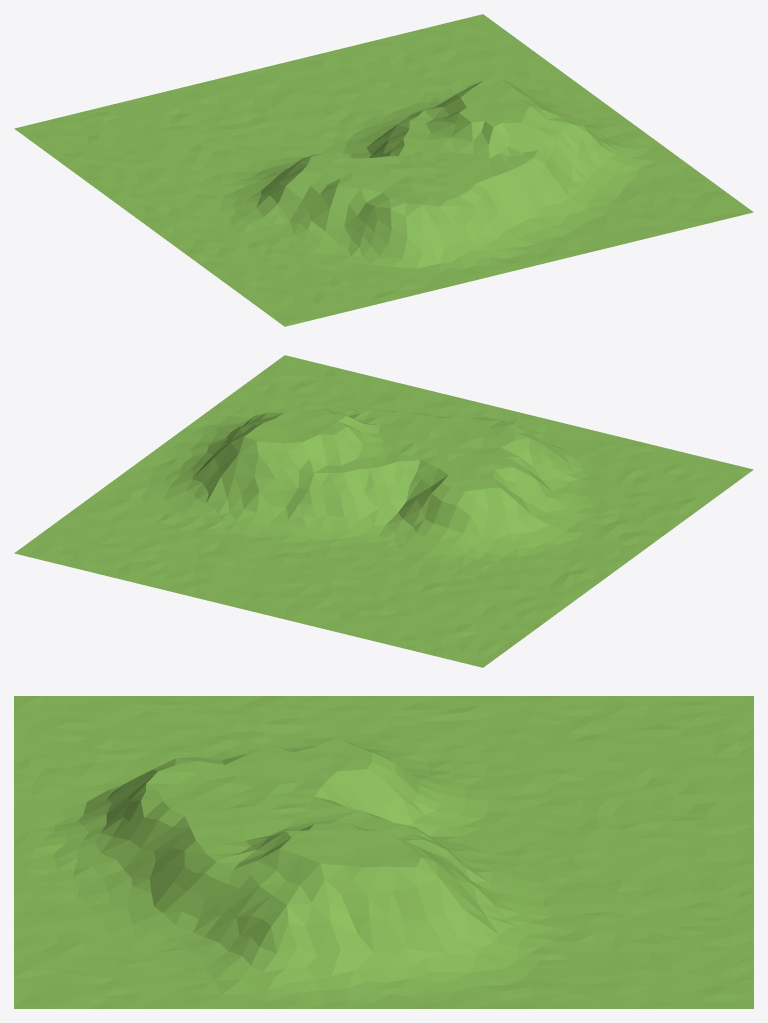
The model's file is MT_Terrain_L_c_01_LOD.fbx.
3 renders of one model, top to bottom at view 1: azimuth 30°, elevation 25°; view 2: azimuth 150°, elevation 25°; view 3: azimuth 270°, elevation 25°, orthographic. The views are drawn at different scales.
Visible parts, largest first — view 1: MT_Terrain_L_c_01_LOD0; view 2: MT_Terrain_L_c_01_LOD0; view 3: MT_Terrain_L_c_01_LOD0.
Part boxes in pixels (bbox=[...]): MT_Terrain_L_c_01_LOD0: bbox=[14, 14, 753, 326]; MT_Terrain_L_c_01_LOD0: bbox=[14, 355, 753, 667]; MT_Terrain_L_c_01_LOD0: bbox=[14, 696, 753, 1008].
Size of what is drawn, in the model's own units: 10000 by 1073 by 10000.
